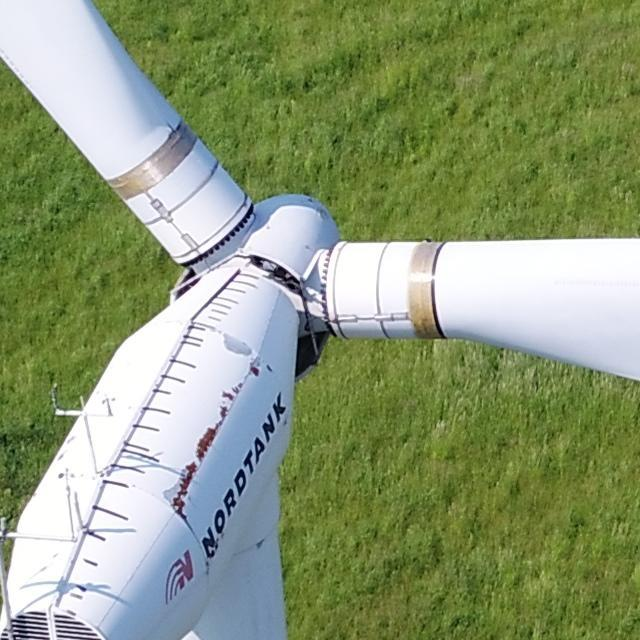damage: (162, 463, 201, 519), (194, 427, 220, 463), (222, 330, 254, 356), (221, 388, 236, 402), (217, 404, 231, 418), (248, 364, 261, 378), (255, 537, 265, 551), (265, 363, 274, 372), (232, 384, 239, 395), (56, 454, 65, 462), (239, 381, 243, 389)
